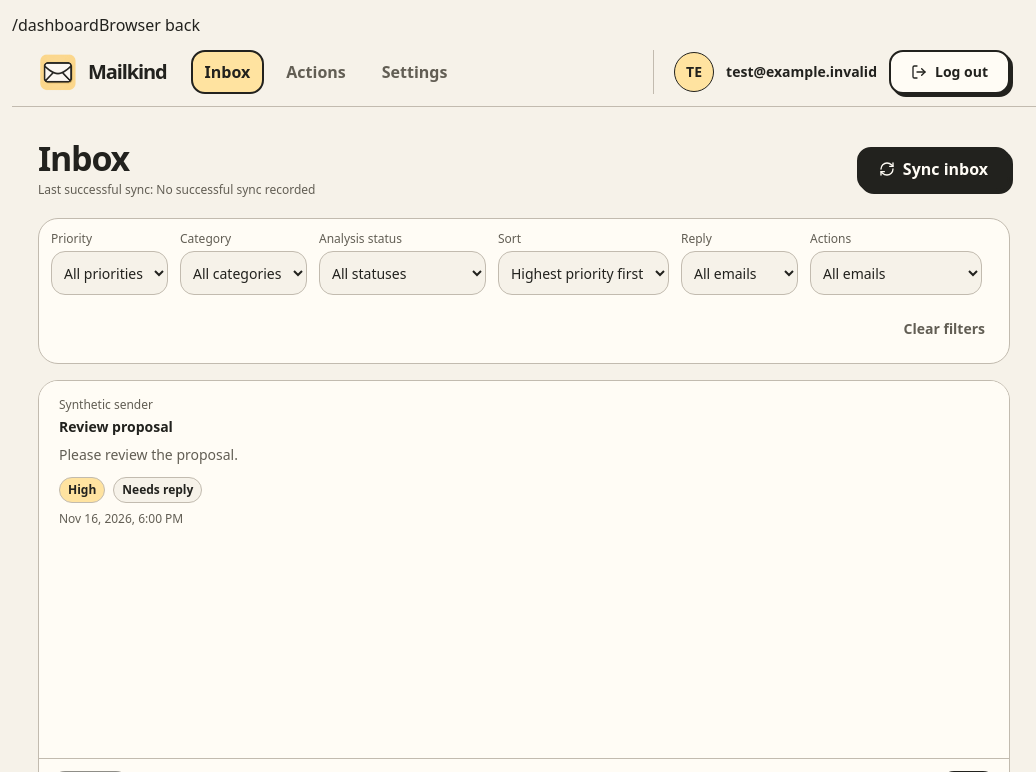
Test: keeps the dashboard visible when logout fails and never automatically retries it
Check: the text "Review proposal" is shown, box 59,418 -> 173,436
Click the button "Log out". click: (950, 72)
box: 889,50 -> 1010,94
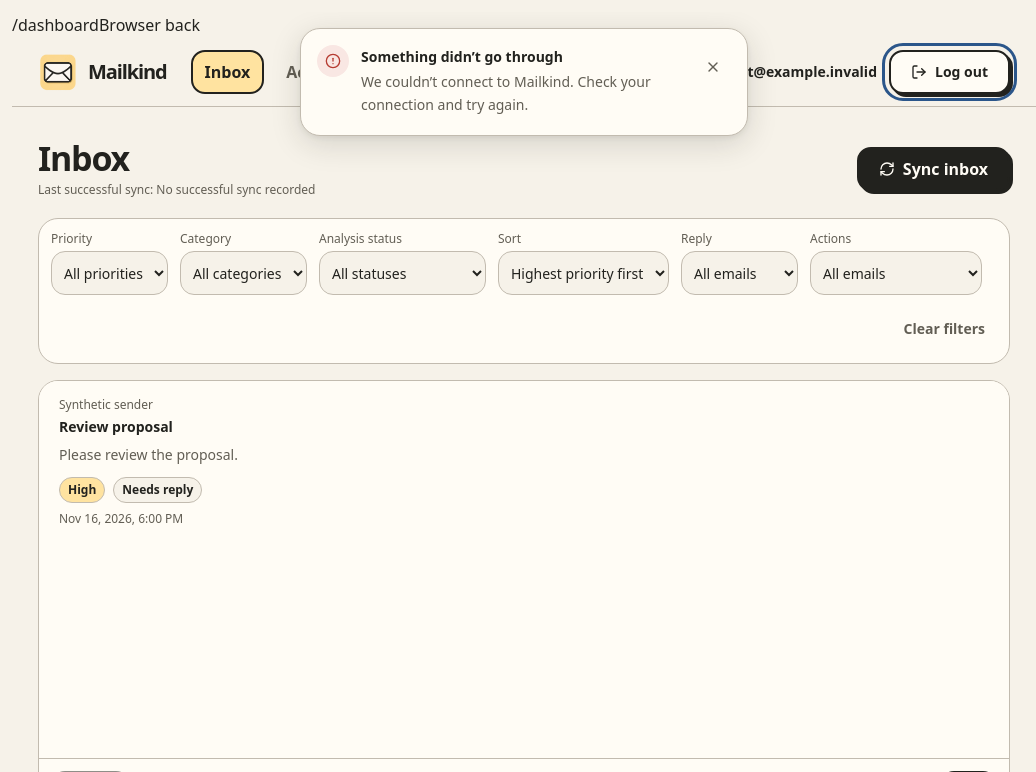
Check: the text "Review proposal" is shown, box 59,418 -> 173,436
Check: the text "Check your connection and try again" is shown, box 361,72 -> 651,114
